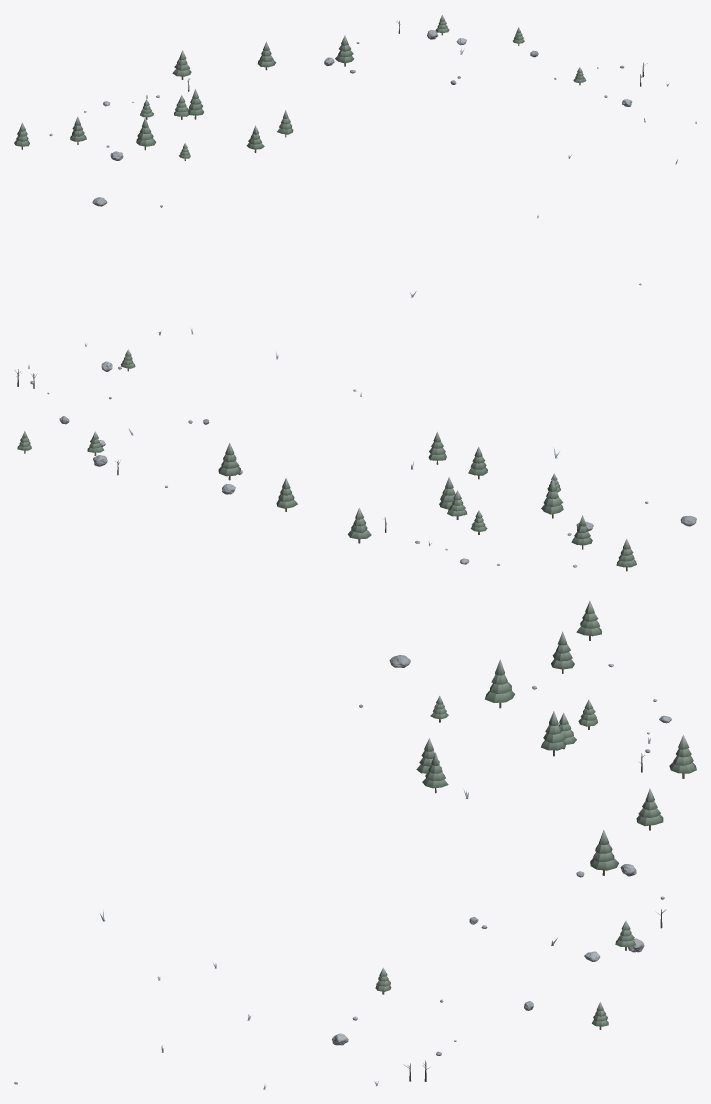
Rendered from frost_land_scatter_c19_13.glb.
3 views of the same model, one above another, from view 1: azimuth 30°, elevation 25°; view 2: azimuth 150°, elevation 25°; view 3: azimuth 270°, elevation 25° (orthographic). The views are drawn at different scales.
Parts seen in each view (by area): view 1: frost_land_scatter_c19_13; view 2: frost_land_scatter_c19_13; view 3: frost_land_scatter_c19_13.
Part boxes in pixels (x1,y1,x2,y2): frost_land_scatter_c19_13: (14, 15, 696, 297); frost_land_scatter_c19_13: (15, 327, 696, 571); frost_land_scatter_c19_13: (14, 601, 696, 1089).
Bounding box in the file's own units: 258 × 54.29 × 178.
